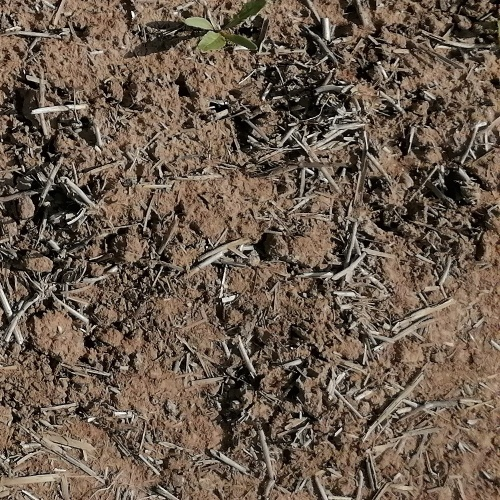beet: (184, 0, 267, 52)
